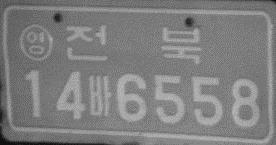1: (18, 67, 49, 119)
4: (55, 70, 85, 120)
5: (152, 74, 185, 125), (190, 75, 223, 126)
6: (115, 74, 148, 122)
8: (229, 78, 259, 128)
바: (87, 73, 111, 117)
영: (17, 23, 53, 62)
전북_D: (64, 24, 202, 64)
